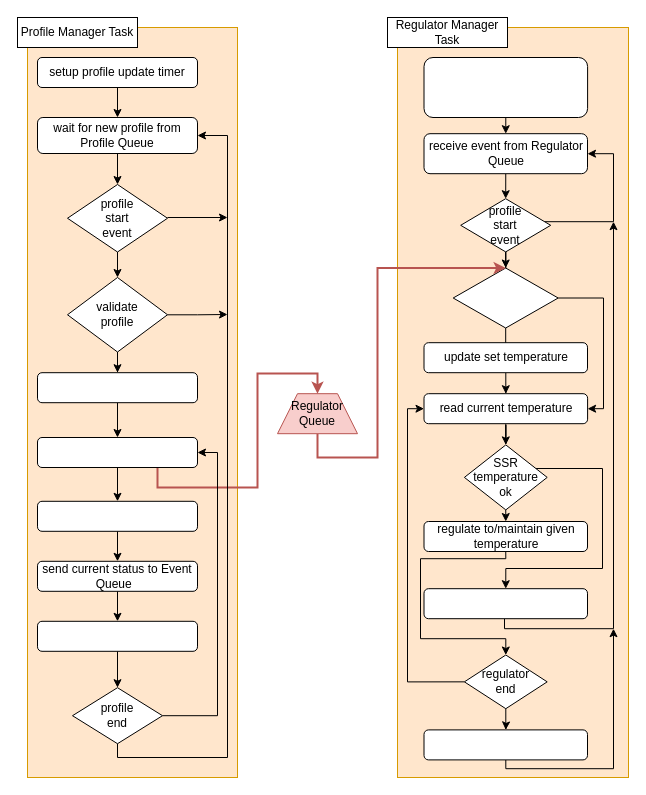
Image size: 646x795. Some labels were removed from this diagram. The shapes that lost their labels are listed below. From the top down, each one's centre as x and y in pixels, then its label:
At (505,87): "setup GPIO Expander, heaters, fans, MAX31865, DS18B20, CPU sensor".
At (505,297): "temperature update".
At (117,387): "set profile start event".
At (117,452): "send temperature update to Regulator Queue".
At (117,515): "set timer for given temperature in time".
At (505,603): "turn off SSR, send event".
At (117,635): "sleep until timer resets".
At (505,744): "turn off fans, stop regulating".
